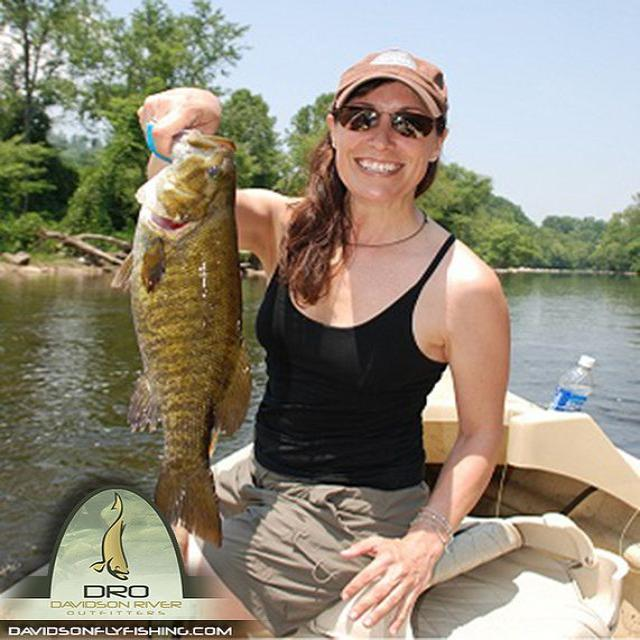Bass - Smallmouth: (115, 130, 251, 543)
